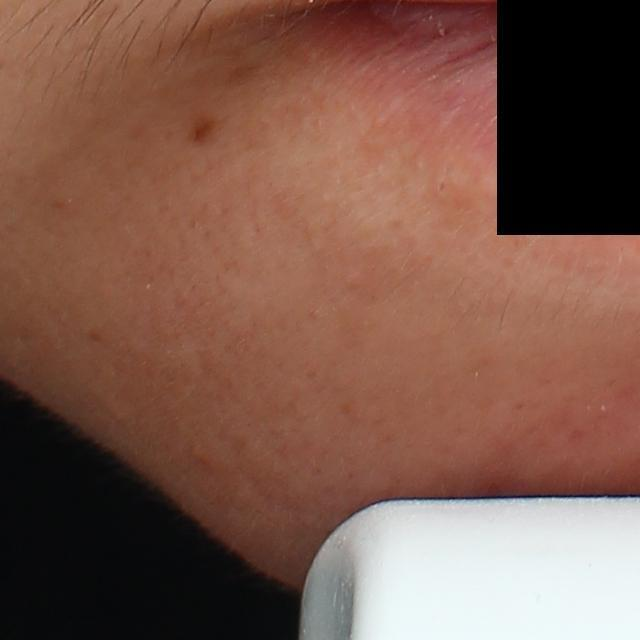nevus: (184, 112, 221, 150)
